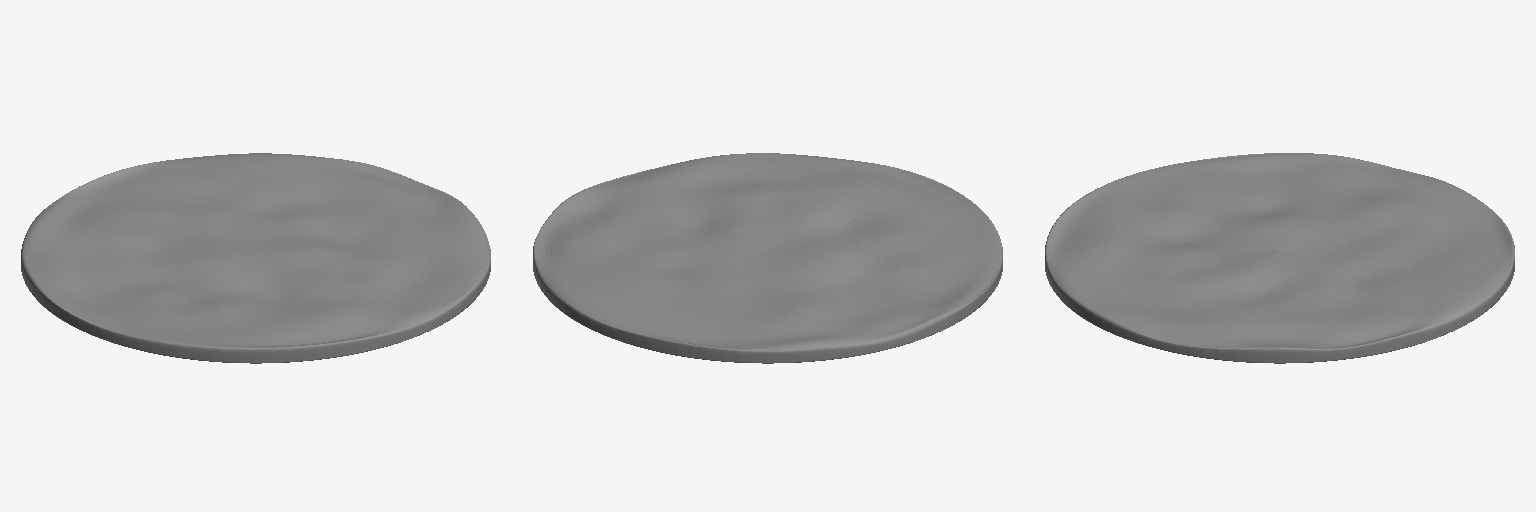
The model's file is CircularGrass1.obj.
3 renders of one model, left to right at view 1: azimuth 30°, elevation 25°; view 2: azimuth 150°, elevation 25°; view 3: azimuth 270°, elevation 25°, orthographic.
Visible parts, largest first — view 1: 10438_Circular_Grass_Patch_v1; view 2: 10438_Circular_Grass_Patch_v1; view 3: 10438_Circular_Grass_Patch_v1.
Part boxes in pixels (x1,y1,x2,y2): 10438_Circular_Grass_Patch_v1: (21, 153, 490, 363); 10438_Circular_Grass_Patch_v1: (533, 153, 1002, 363); 10438_Circular_Grass_Patch_v1: (1045, 153, 1514, 363).
Bounding box in the file's own units: 287 × 11.54 × 287.